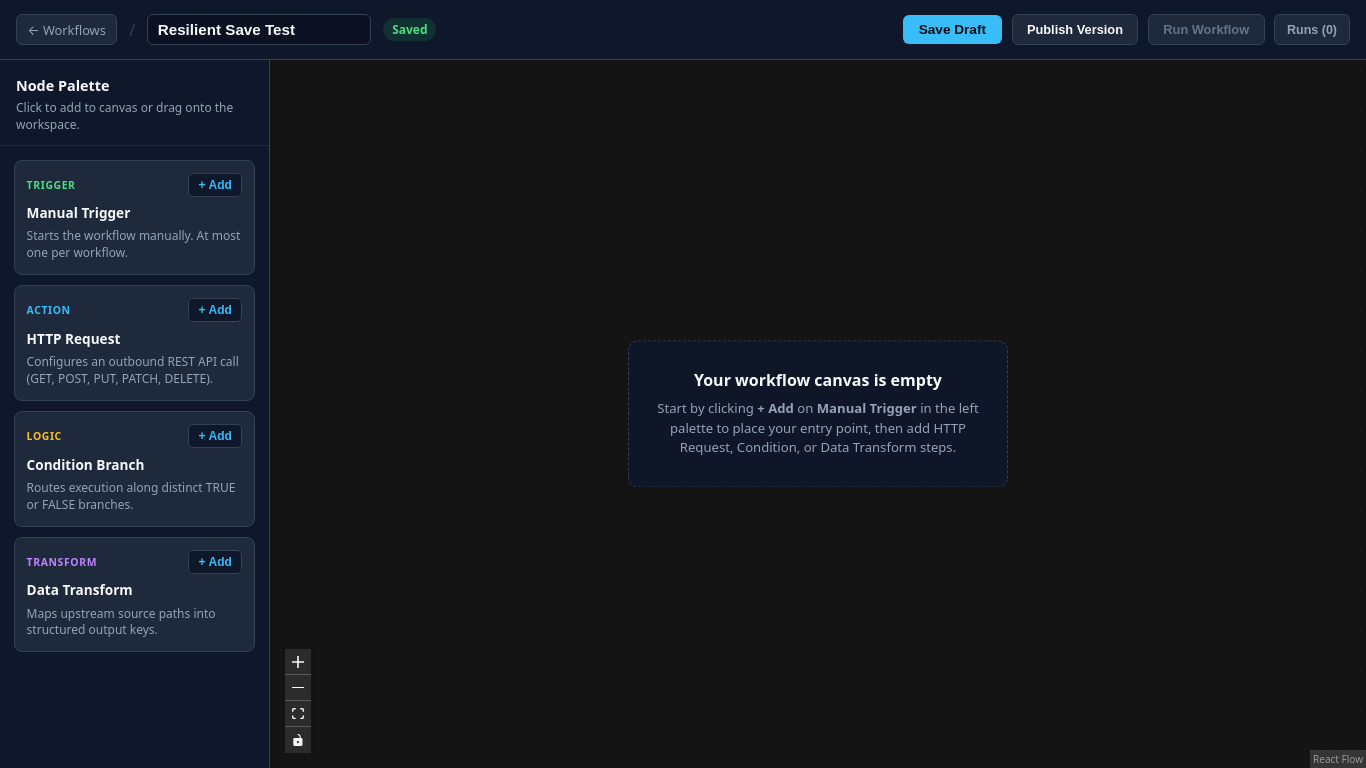
Test: @flowforge/web — Dashboard & Visual Workflow Editor Suite › 2. WorkflowEditor › retains unsaved changes and displays error feedback when saving fails
expect the element with test id "empty-canvas-guidance" is shown: met, box [628, 340, 1008, 488]
# Add Condition node and configure it
Click the button with aria-label "Add Condition Branch node" at (215, 436), box [188, 424, 242, 448]
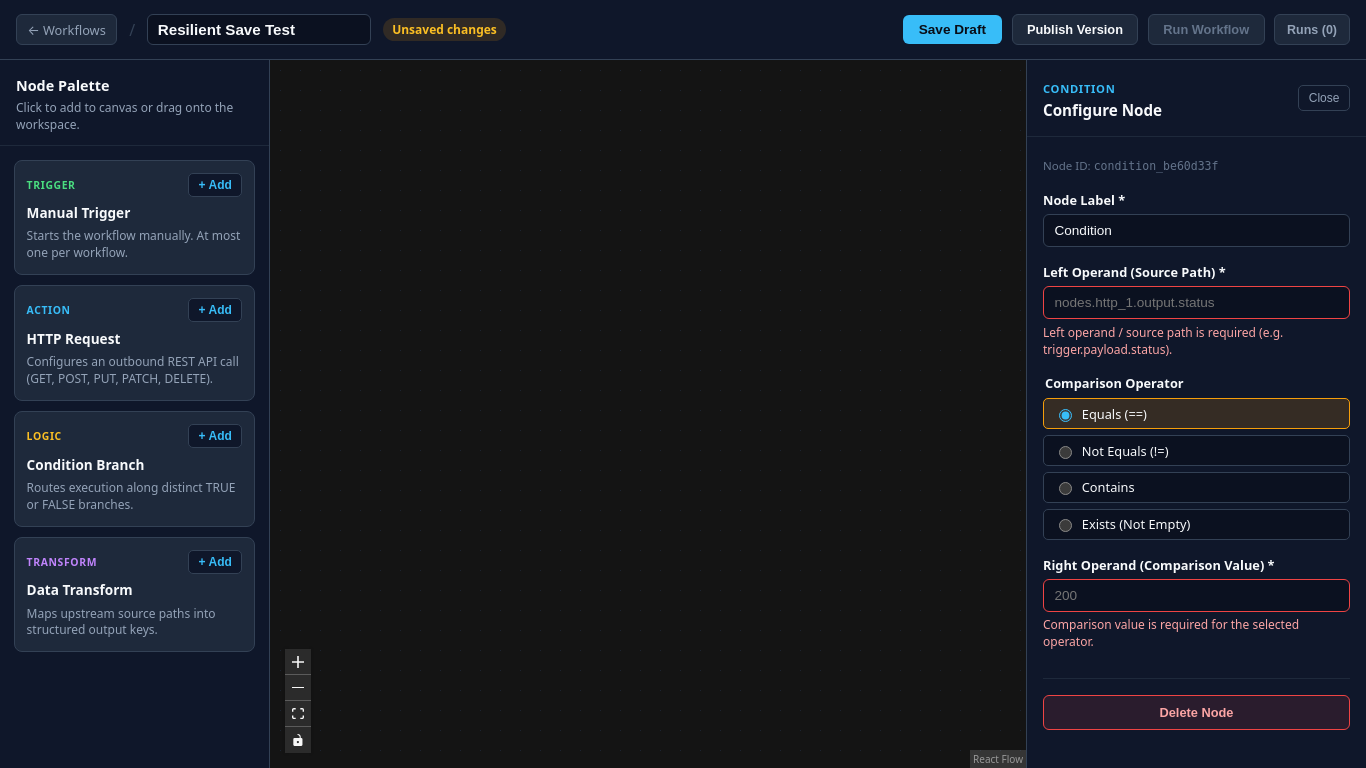
Type "trigger.body.total" into the field labelled "Left Operand (Source Path) *" at (1196, 302), box [1043, 286, 1350, 319]
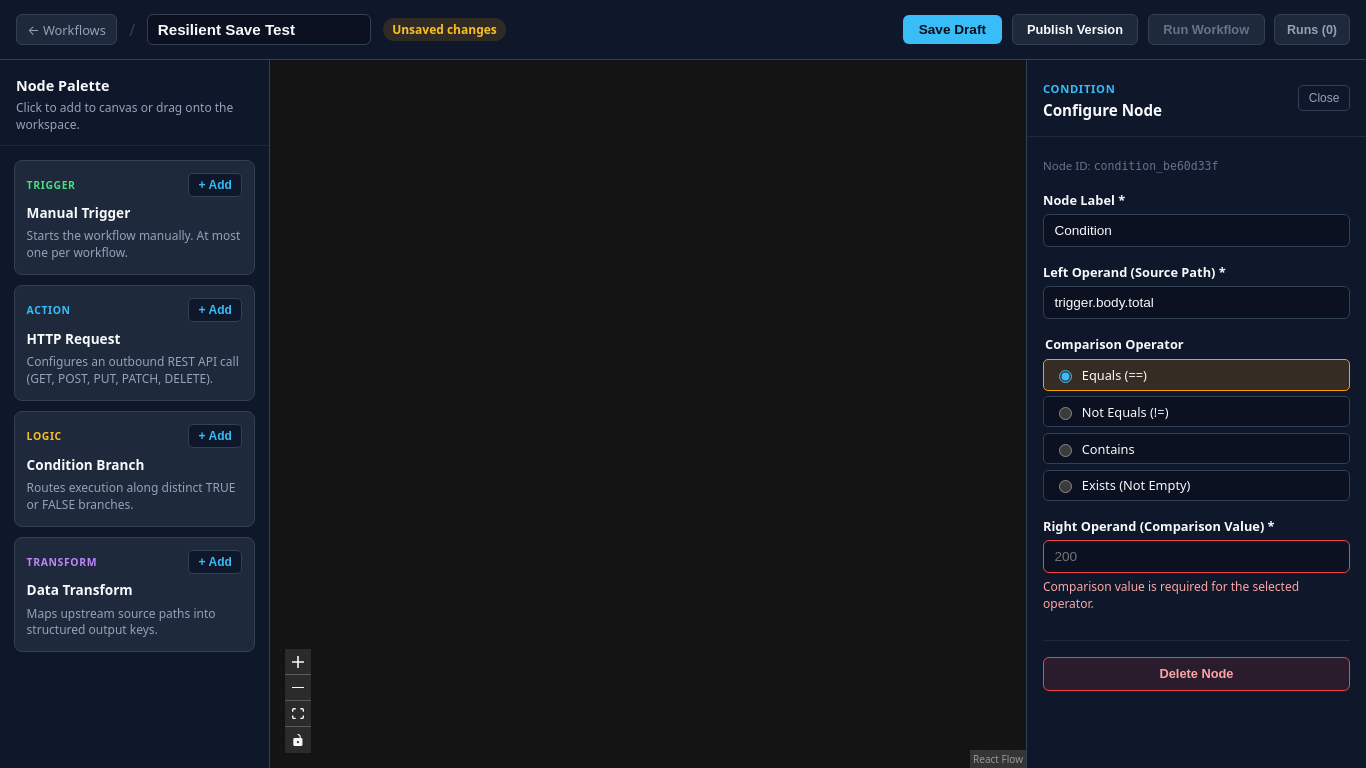
Click the button "Save Draft" at (952, 30), box [903, 15, 1002, 44]
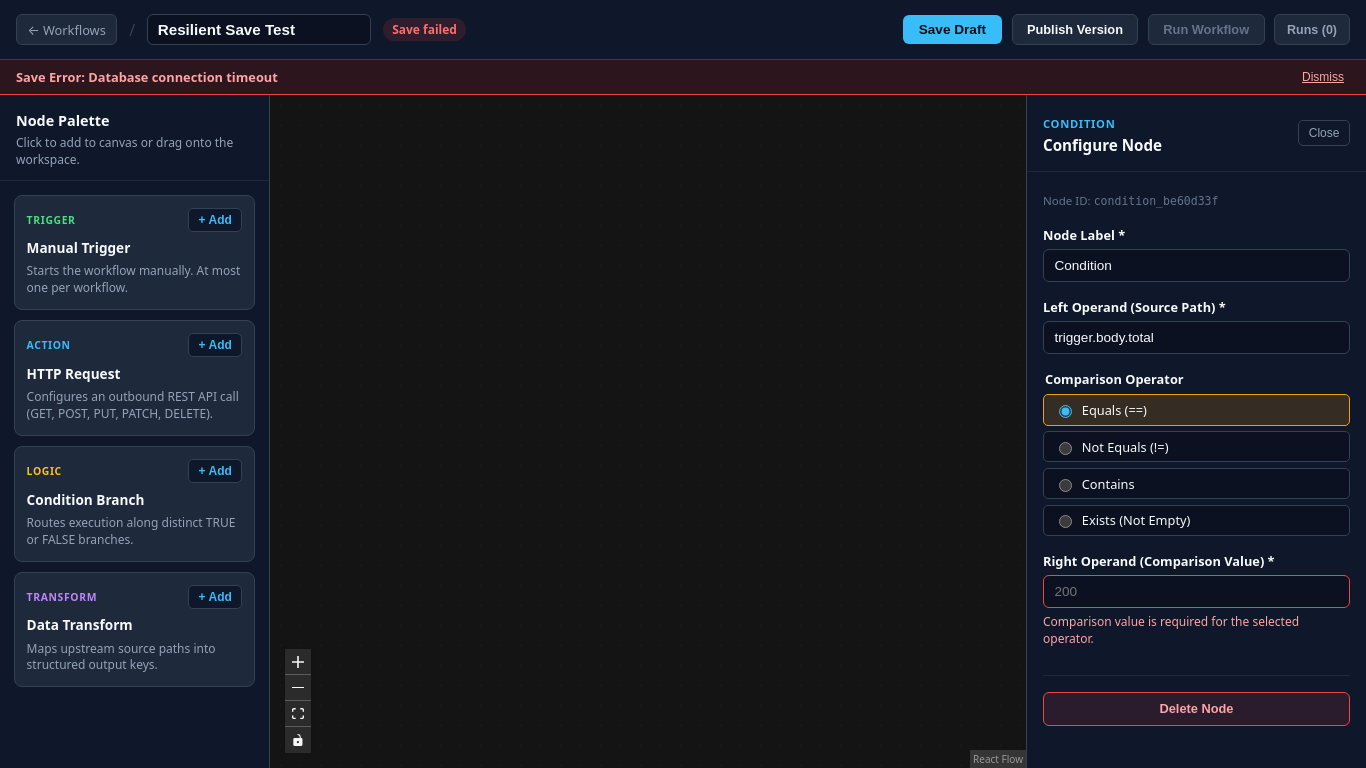
expect the message with test id "save-status-indicator" reads "Save failed": met, box [392, 21, 457, 38]
expect the text "Save Error: Database connection timeout" is shown: met, box [16, 68, 278, 86]
